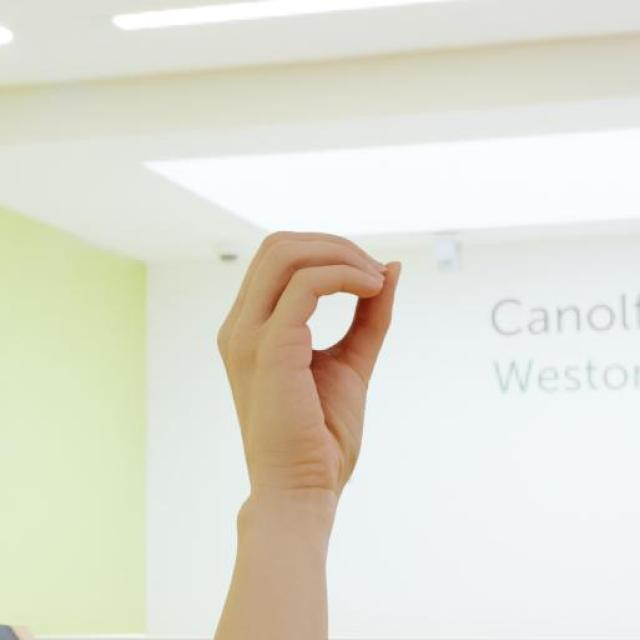O: (201, 212, 422, 534)
